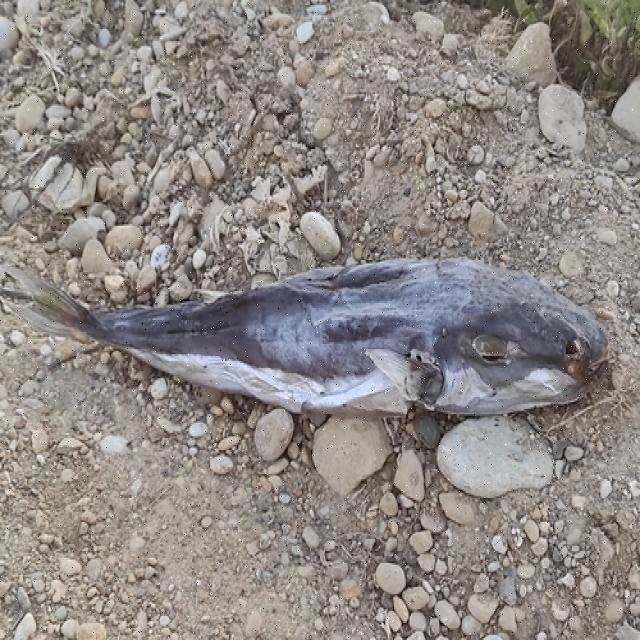Balik: (7, 259, 607, 415)
